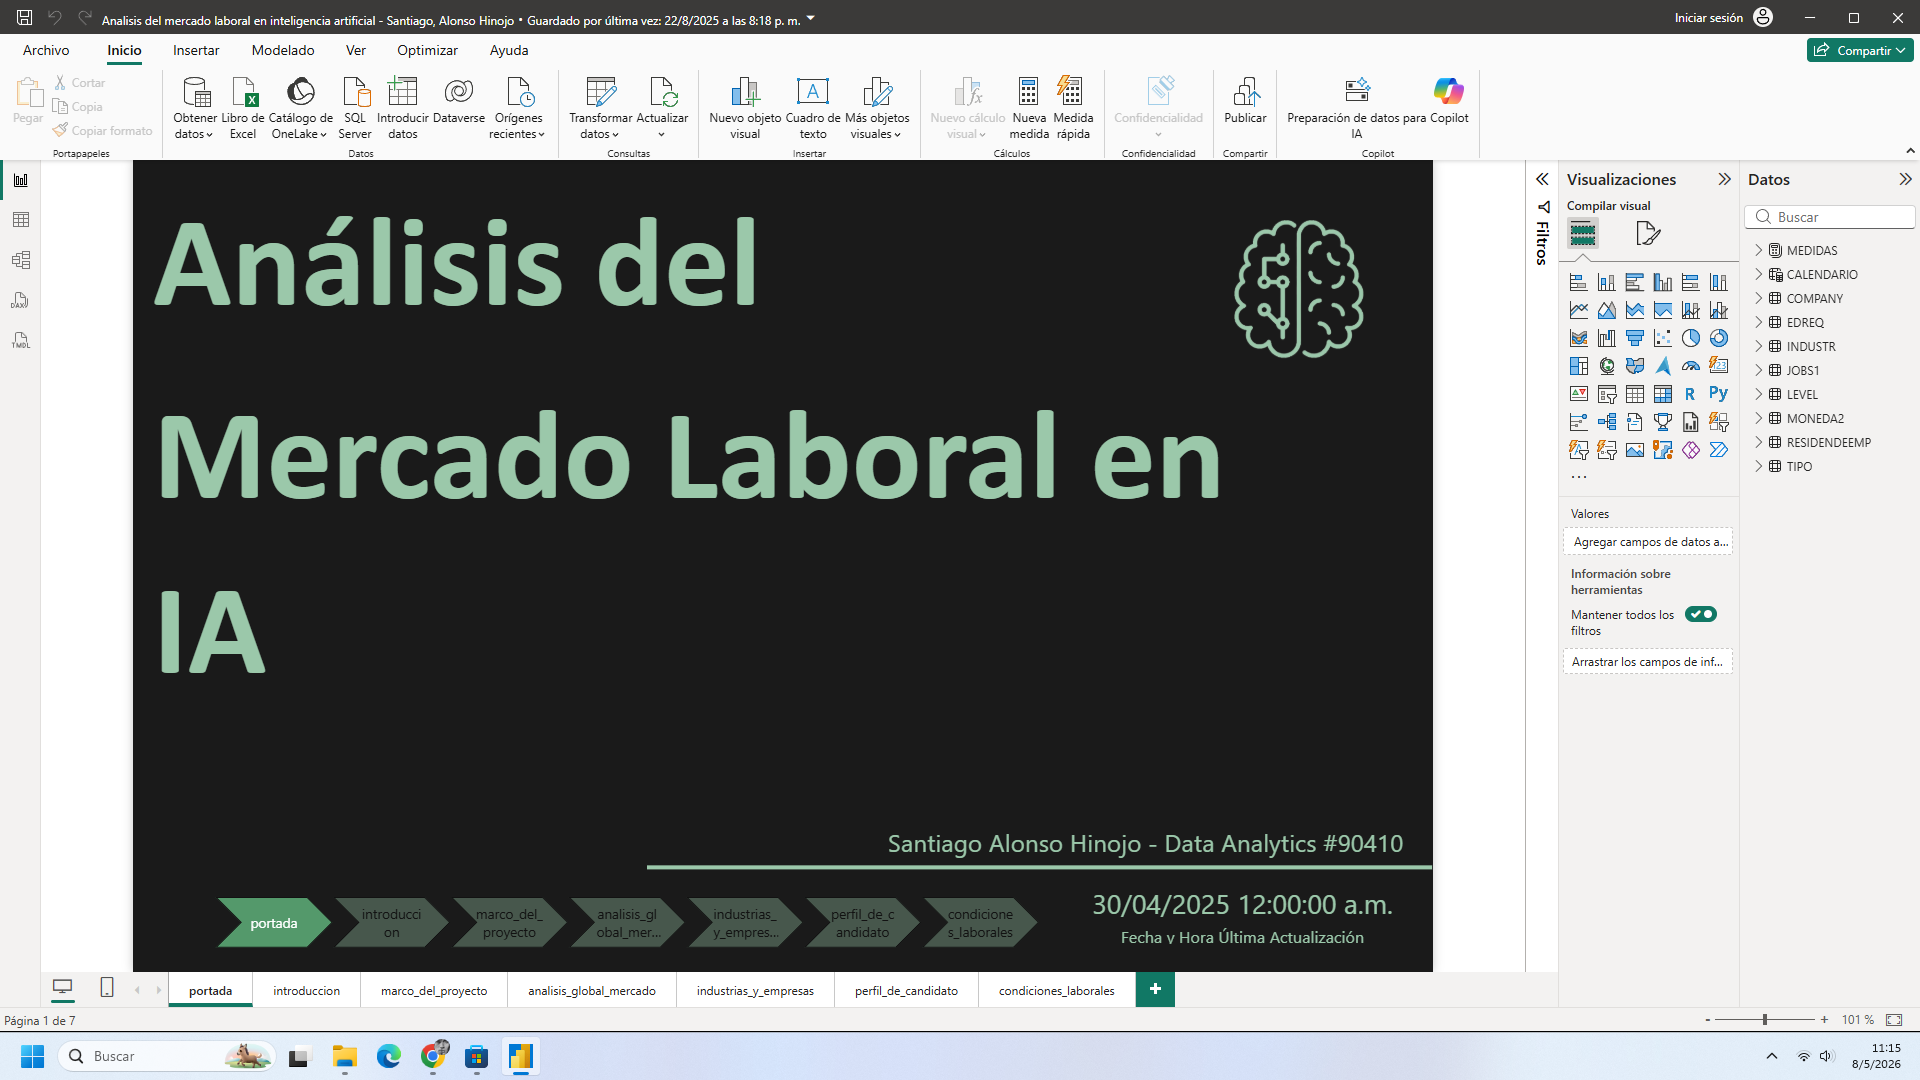

The dashboard page shown, as its layout file describes it:
{"tool":"powerbi","page":{"name":"portada","canvas":[1280,800],"ordinal":0},"visuals":[{"type":"textbox","box":[14.8,10.6,1108.3,541.5],"z":0},{"type":"shape","box":[506.5,628.3,773.5,136.7],"z":1000},{"type":"textbox","box":[738.5,651.7,521.3,45.6],"z":2000},{"type":"image","box":[1072.3,54,156.8,149.4],"z":3000},{"type":"card","fields":{"Values":["MEDIDAS.Fecha Última Actualización"]},"box":[926,710.3,334.1,66.8],"z":4000},{"type":"pageNavigator","box":[80.8,726.5,812.4,50.1],"z":5000}]}

Visuals, with their boxes on the page's 1280x800 design canvas (x1, y1, x2, y2). These are canvas units, not pixel positions in the 1920x1080 screenshot, which may show the page scaled, cropped or inside an application window:
textbox: select_region(15, 11, 1123, 552)
shape: select_region(506, 628, 1280, 765)
textbox: select_region(738, 652, 1260, 697)
image: select_region(1072, 54, 1229, 203)
card - MEDIDAS.Fecha Última Actualización: select_region(926, 710, 1260, 777)
pageNavigator: select_region(81, 726, 893, 777)
